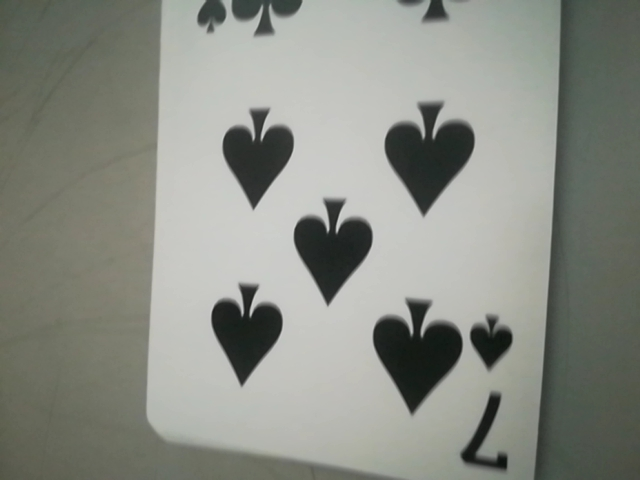ht 7: (463, 310, 522, 476)
